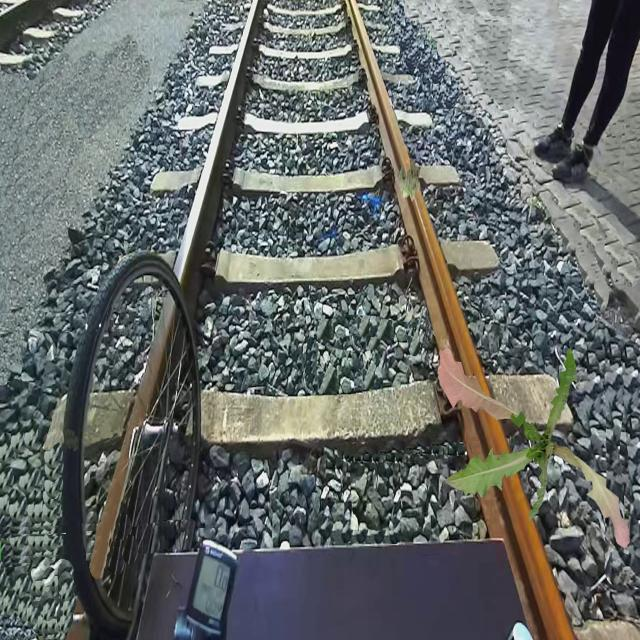Plant: (437, 346, 630, 548), (395, 159, 421, 202)
